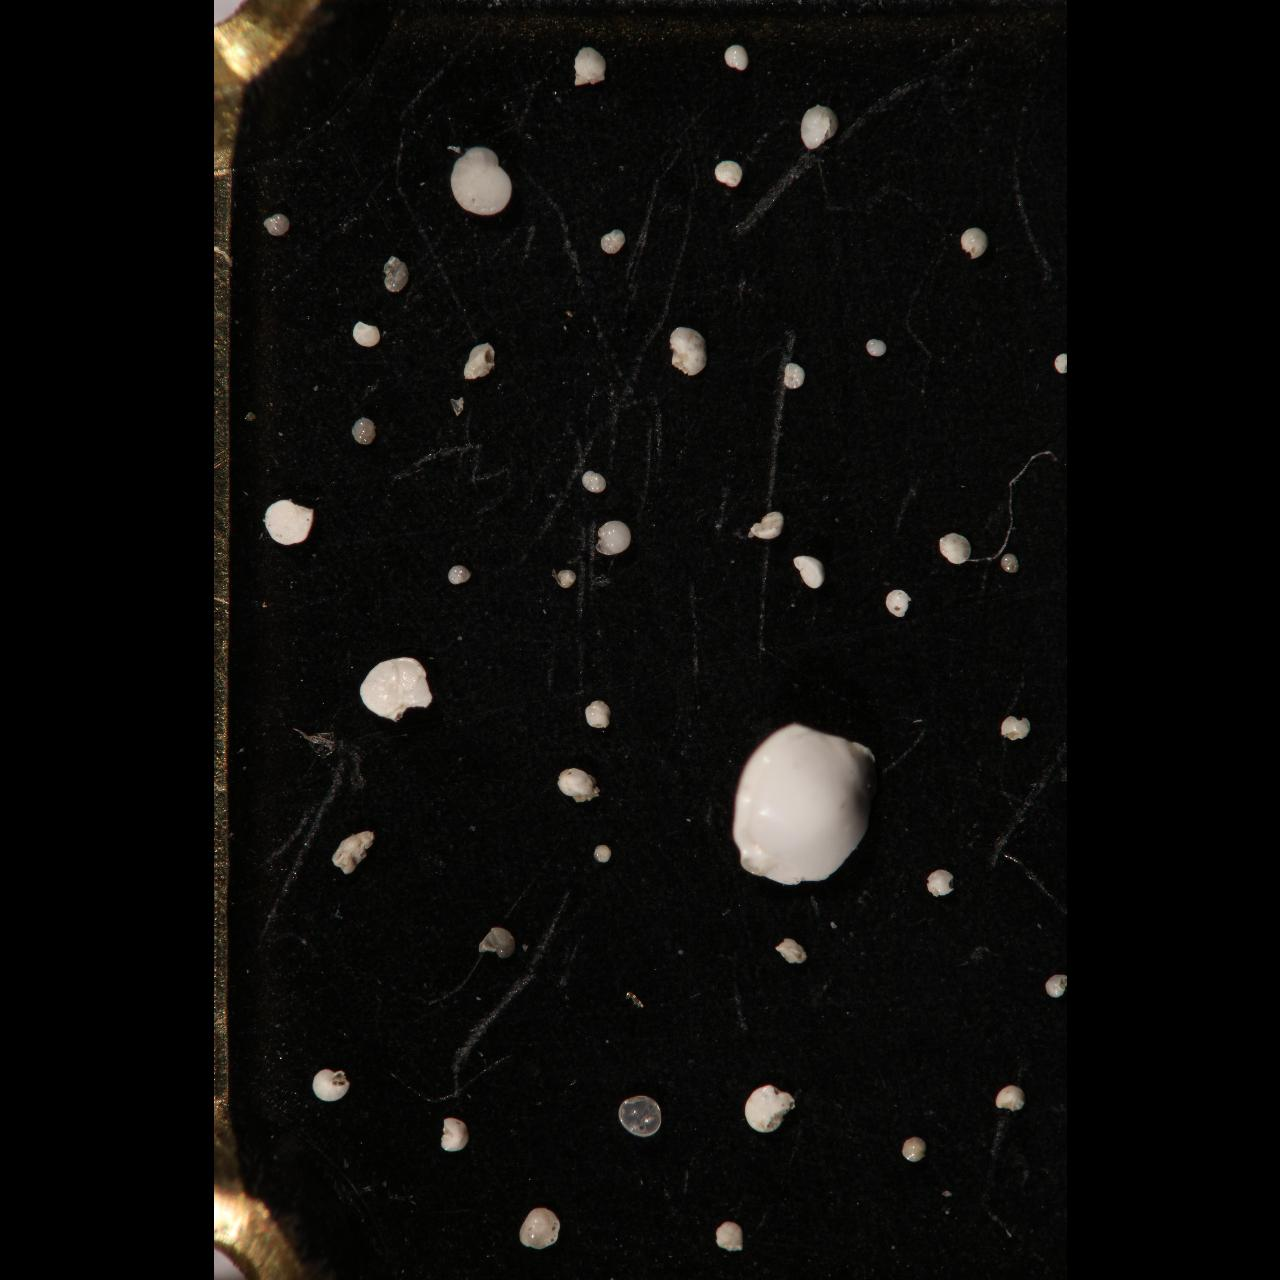calcareous: (733, 722, 878, 886), (356, 655, 434, 726), (450, 145, 515, 217), (743, 1083, 797, 1133), (264, 498, 314, 545), (615, 1094, 665, 1141), (667, 326, 708, 379), (329, 829, 374, 876), (517, 1206, 559, 1250), (799, 103, 838, 150), (554, 765, 601, 803), (573, 46, 607, 89), (595, 518, 633, 556), (476, 925, 515, 961), (463, 341, 495, 383), (312, 1067, 348, 1103), (937, 531, 973, 566), (791, 552, 825, 590), (438, 1115, 468, 1153), (381, 254, 409, 292), (715, 1218, 743, 1254), (750, 511, 783, 542), (994, 1083, 1027, 1114), (772, 938, 808, 966), (960, 225, 987, 261), (926, 869, 956, 899), (350, 415, 377, 448), (585, 697, 612, 730), (1001, 715, 1032, 743), (350, 320, 380, 348), (713, 161, 743, 188), (599, 227, 626, 257), (899, 1136, 926, 1164), (722, 43, 748, 73), (885, 588, 911, 618), (779, 361, 804, 392), (579, 469, 606, 496), (264, 212, 291, 238), (447, 563, 471, 586), (1043, 973, 1067, 998), (554, 565, 577, 591), (864, 336, 886, 360), (592, 844, 611, 866), (1001, 553, 1017, 576), (1054, 354, 1067, 376)
